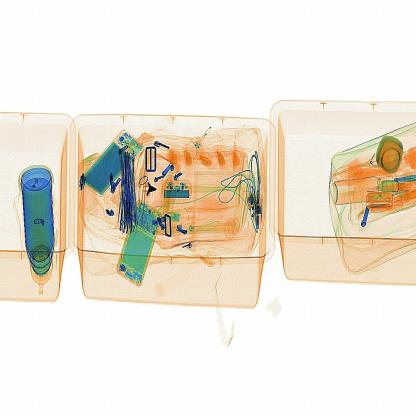gun: (142, 175, 160, 210)
